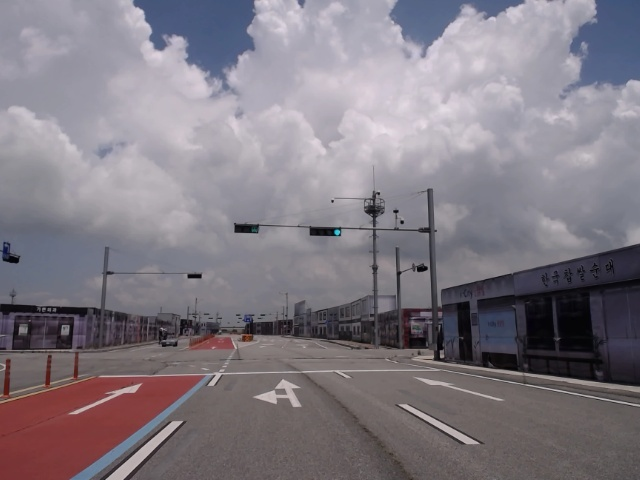straight_green_4: (310, 227, 341, 237)
